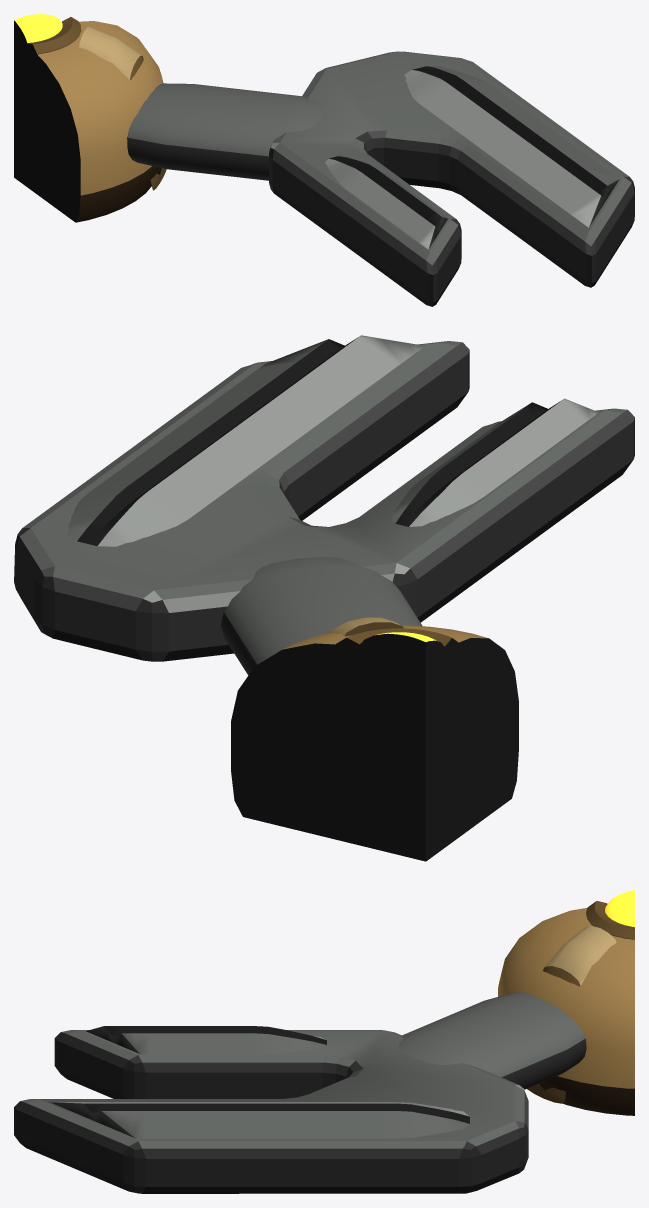
File: spin_claw_41.glb
3 views of the same model, one above another, from view 1: azimuth 30°, elevation 25°; view 2: azimuth 150°, elevation 25°; view 3: azimuth 270°, elevation 25° (orthographic). The views are drawn at different scales.
Parts seen in each view (by area): view 1: spin_claw_41_arm2_plate, spin_claw_41_hub_dome, spin_claw_41_arm2_rod, spin_claw_41_arm2_ridge0, spin_claw_41_arm2_ridge1, spin_claw_41_hub_rib2, spin_claw_41_hub_lens, spin_claw_41_hub_bezel; view 2: spin_claw_41_arm2_plate, spin_claw_41_hub_dome, spin_claw_41_arm2_ridge0, spin_claw_41_arm2_rod, spin_claw_41_arm2_ridge1, spin_claw_41_hub_lens, spin_claw_41_hub_bezel, spin_claw_41_hub_rib2; view 3: spin_claw_41_arm2_plate, spin_claw_41_hub_dome, spin_claw_41_arm2_ridge0, spin_claw_41_arm2_rod, spin_claw_41_arm2_ridge1, spin_claw_41_hub_rib2, spin_claw_41_hub_bezel, spin_claw_41_hub_lens.
Boxes of the visible parts, x1,y1,x2,y2 form: spin_claw_41_arm2_plate: (269,51,634,306); spin_claw_41_hub_dome: (14,21,163,222); spin_claw_41_arm2_rod: (127,83,323,180); spin_claw_41_arm2_ridge0: (404,66,619,227); spin_claw_41_arm2_ridge1: (325,156,447,249); spin_claw_41_hub_rib2: (79,27,166,190); spin_claw_41_hub_lens: (14,14,62,57); spin_claw_41_hub_bezel: (14,17,81,63); spin_claw_41_arm2_plate: (14,341,634,661); spin_claw_41_hub_dome: (231,625,518,861); spin_claw_41_arm2_ridge0: (66,335,424,546); spin_claw_41_arm2_rod: (221,557,422,675); spin_claw_41_arm2_ridge1: (390,398,598,526); spin_claw_41_hub_lens: (357,632,445,683); spin_claw_41_hub_bezel: (336,628,458,679); spin_claw_41_hub_rib2: (327,617,403,636); spin_claw_41_arm2_plate: (14,1030,528,1193); spin_claw_41_hub_dome: (498,908,634,1115); spin_claw_41_arm2_ridge0: (50,1102,469,1138); spin_claw_41_arm2_rod: (399,992,586,1089); spin_claw_41_arm2_ridge1: (86,1026,326,1054); spin_claw_41_hub_rib2: (527,926,616,1103); spin_claw_41_hub_bezel: (586,901,634,939); spin_claw_41_hub_lens: (605,890,634,927).
Size of the model in its own units: 15.4 by 6.19 by 21.53.
